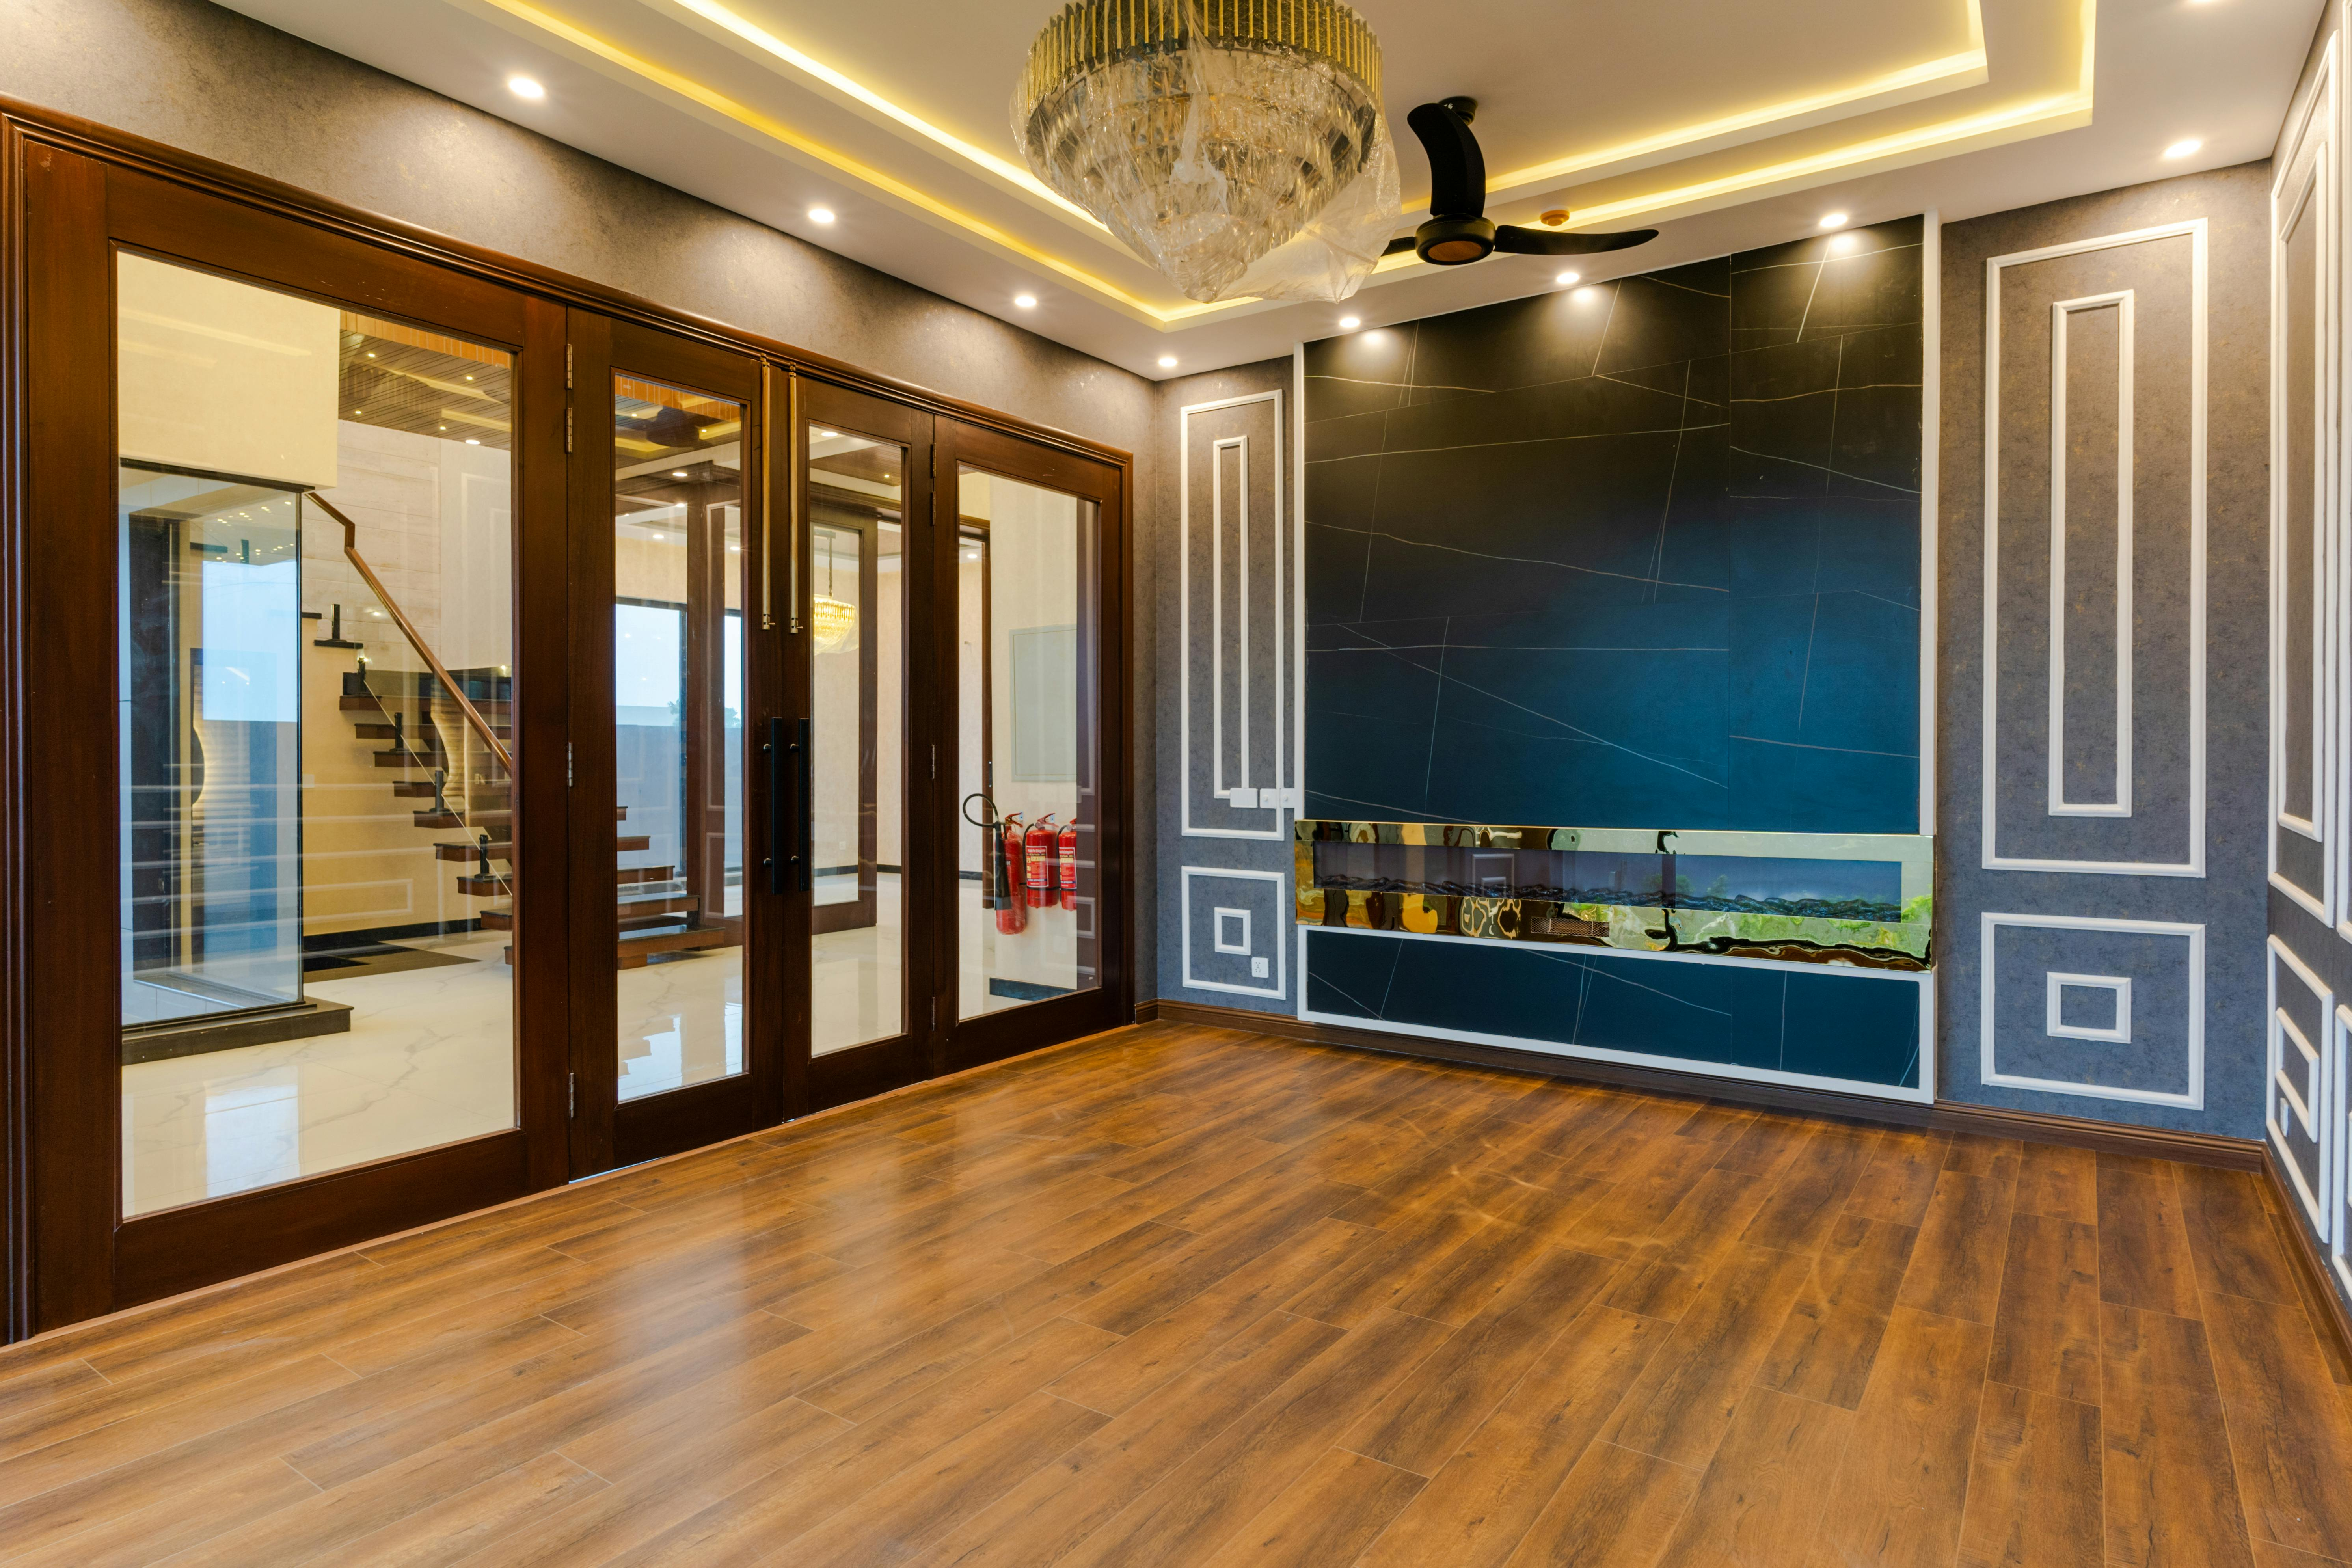extintor: (982, 807, 1029, 938), (1020, 810, 1060, 912), (1055, 816, 1078, 917)
